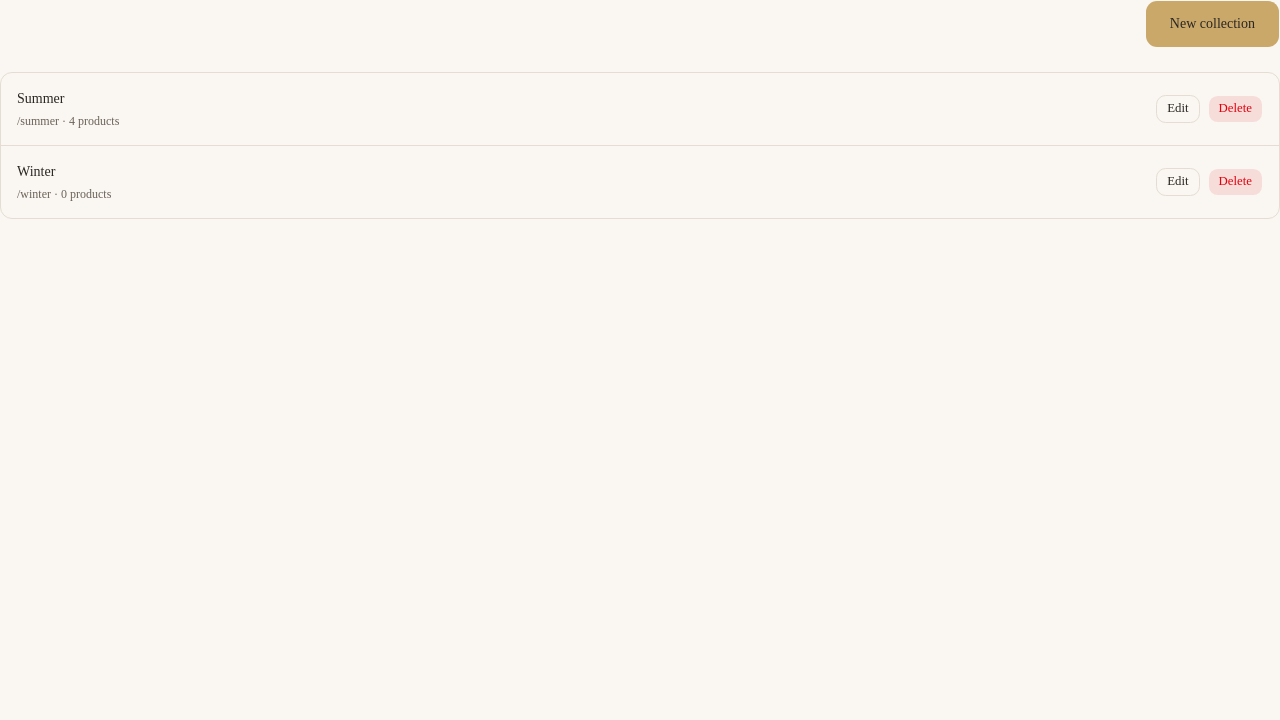
Test: CollectionManager › generic error on create renders role="alert" and does not refresh
The width and height of the screenshot is (1280, 720).
Click the button "New collection".
click(1212, 24)  # box [1145,0,1279,48]
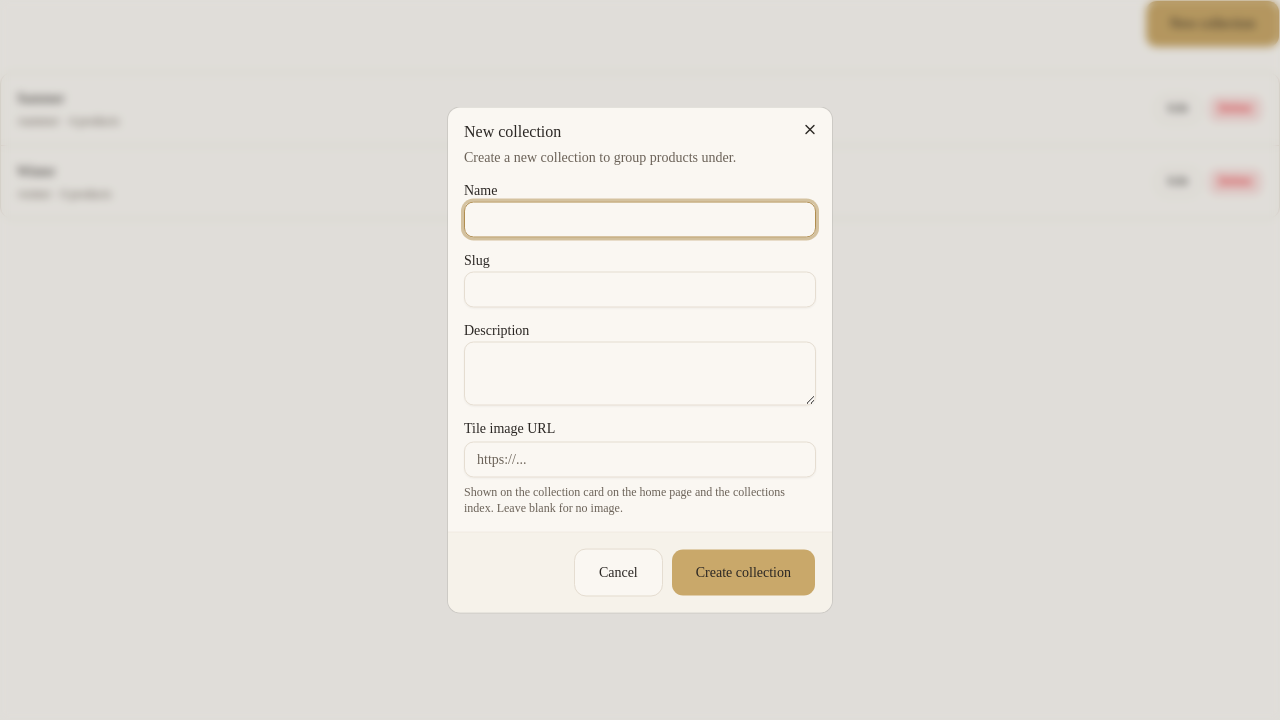
Type "Spring" into the field labelled "Name".
click(640, 220); type("Spring")  # box [464,202,816,238]
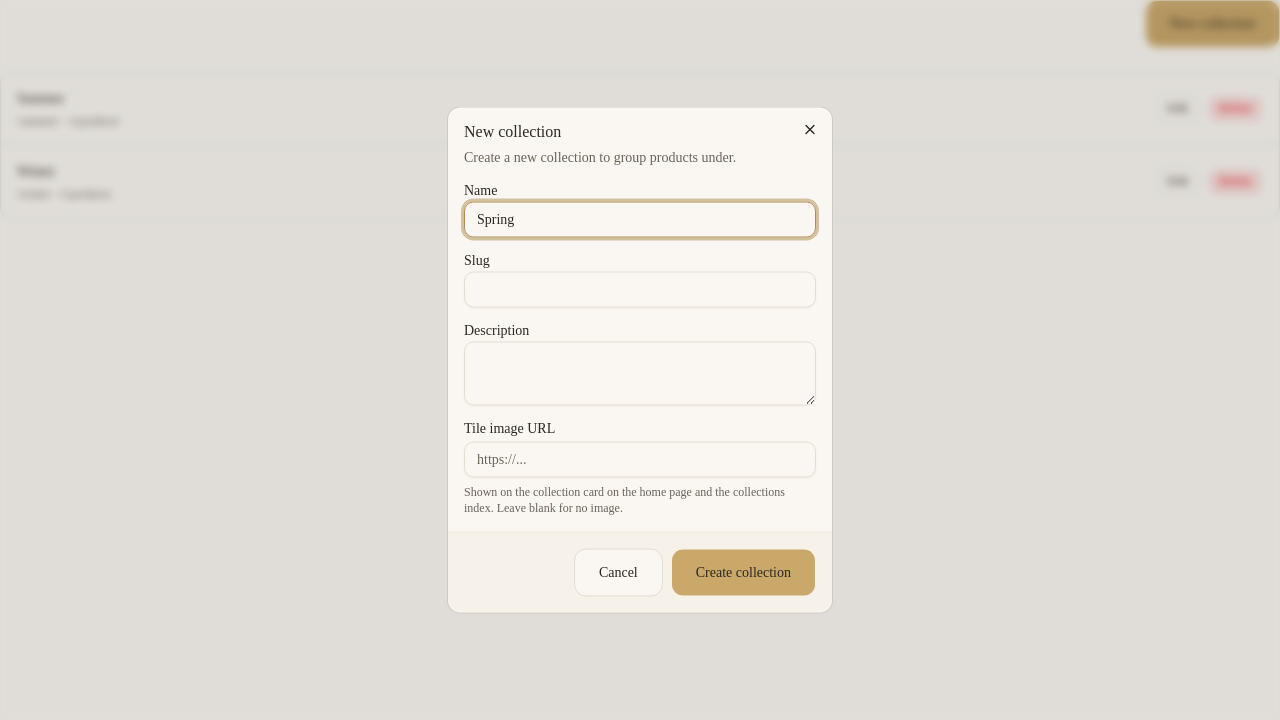
Type "spring" into the field labelled "Slug".
click(640, 290); type("spring")  # box [464,272,816,308]
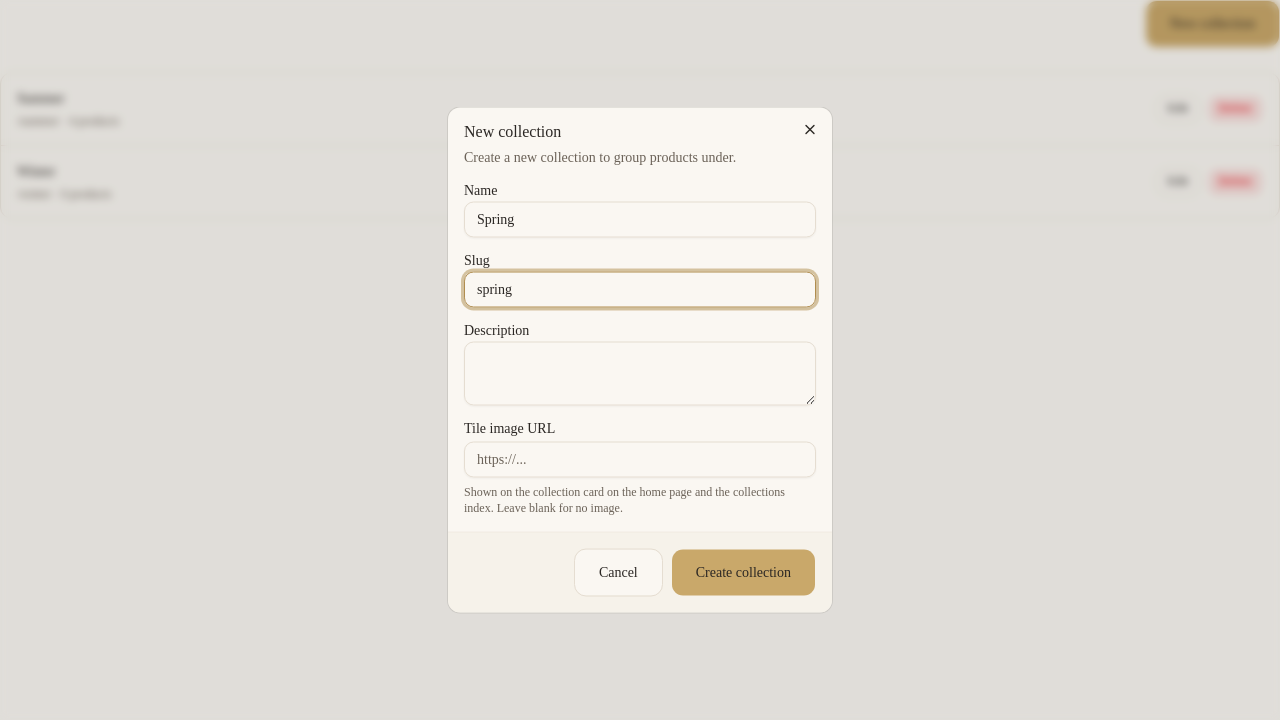
Click the button "Create collection".
click(743, 572)  # box [671,548,816,596]
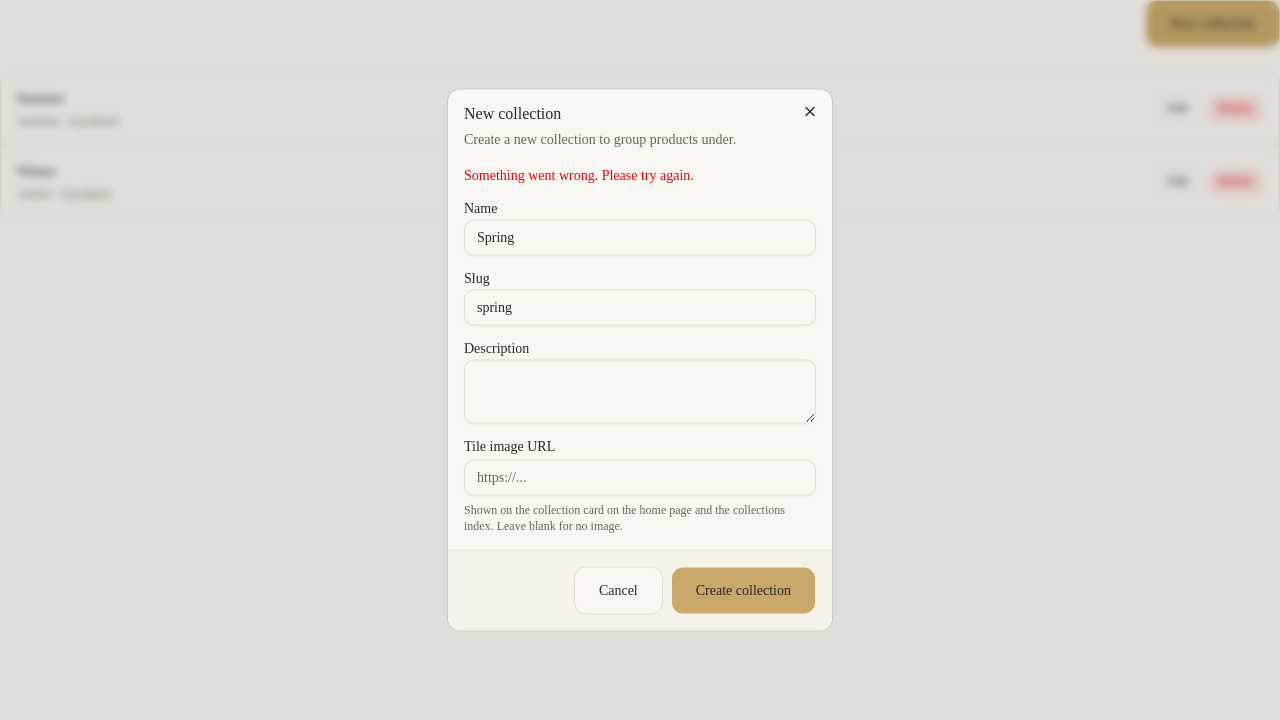
Expected: the message "Something went wrong. Please try again." is shown, [464,168,694,182]
